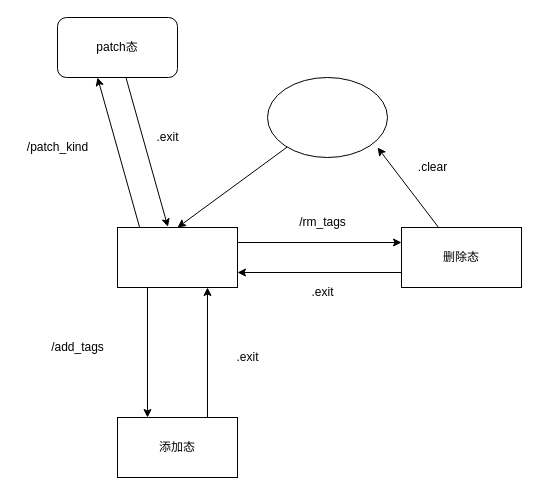
Some shapes in this 539 by 495 pixel diagram are drawn without their labels. The shapes that lost their labels are listed below. From the top down, each one's centre as x and y in pixels, then its label:
At point (327, 117): "删除所有".
At point (177, 257): "初始".
